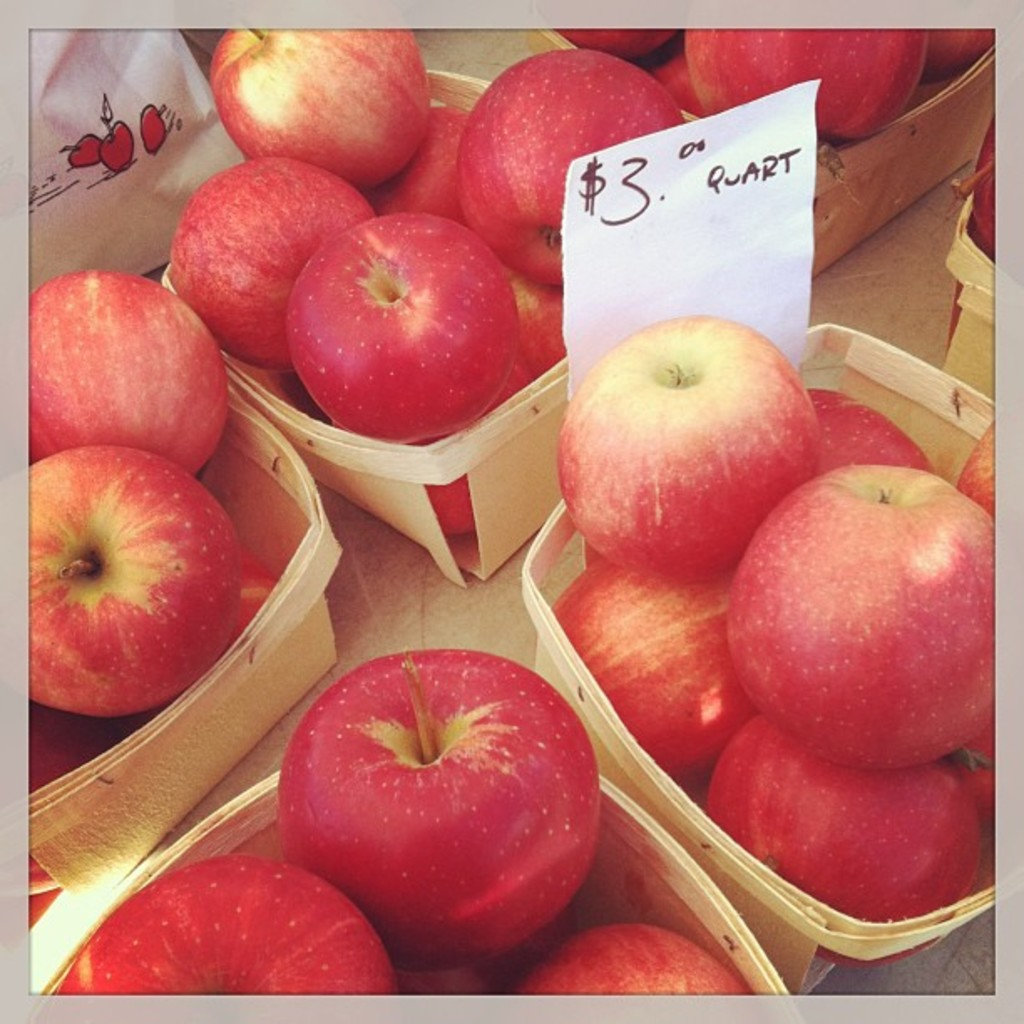Apple: (545, 316, 993, 970), (160, 25, 684, 533), (276, 642, 599, 970), (25, 448, 242, 711), (63, 855, 399, 997), (26, 266, 230, 478), (674, 23, 926, 140), (517, 925, 744, 997), (31, 699, 102, 888), (553, 16, 675, 60), (393, 957, 508, 993), (647, 45, 702, 112), (926, 25, 992, 76), (235, 548, 271, 637), (28, 866, 50, 933)
